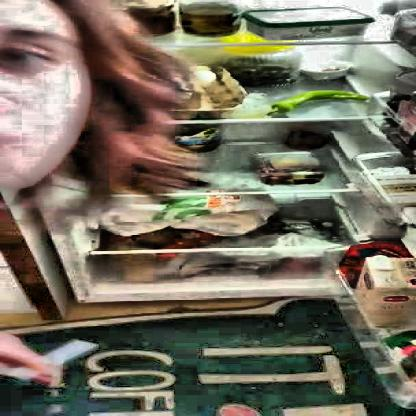cream_cheese: (249, 8, 365, 38)
green_chillies: (270, 90, 364, 124)
olives: (230, 64, 293, 84)
